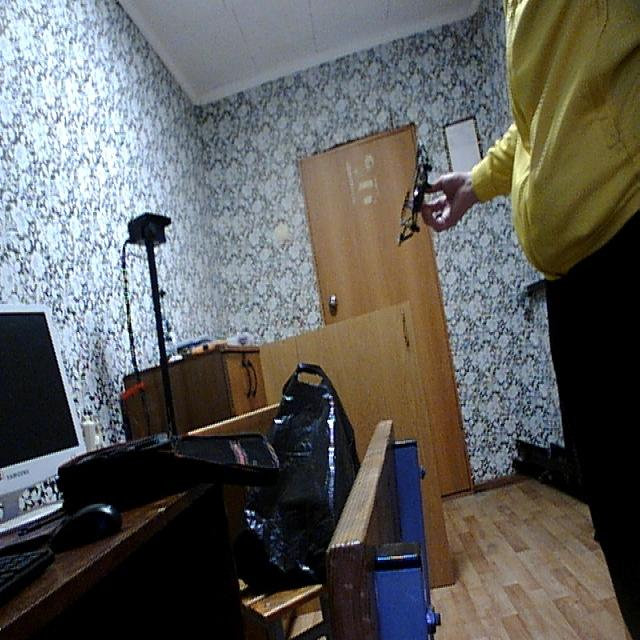drone: (396, 136, 434, 259)
